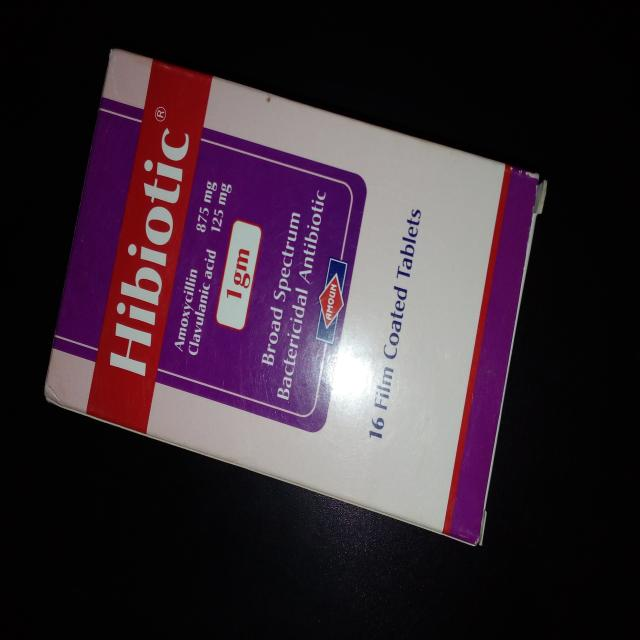Medicine: (47, 45, 549, 548)
